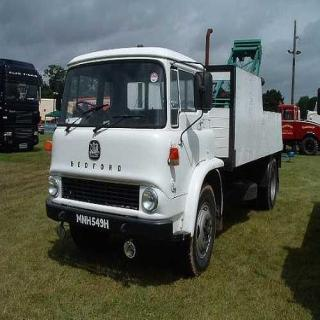Towing_truck: (44, 26, 284, 278)
